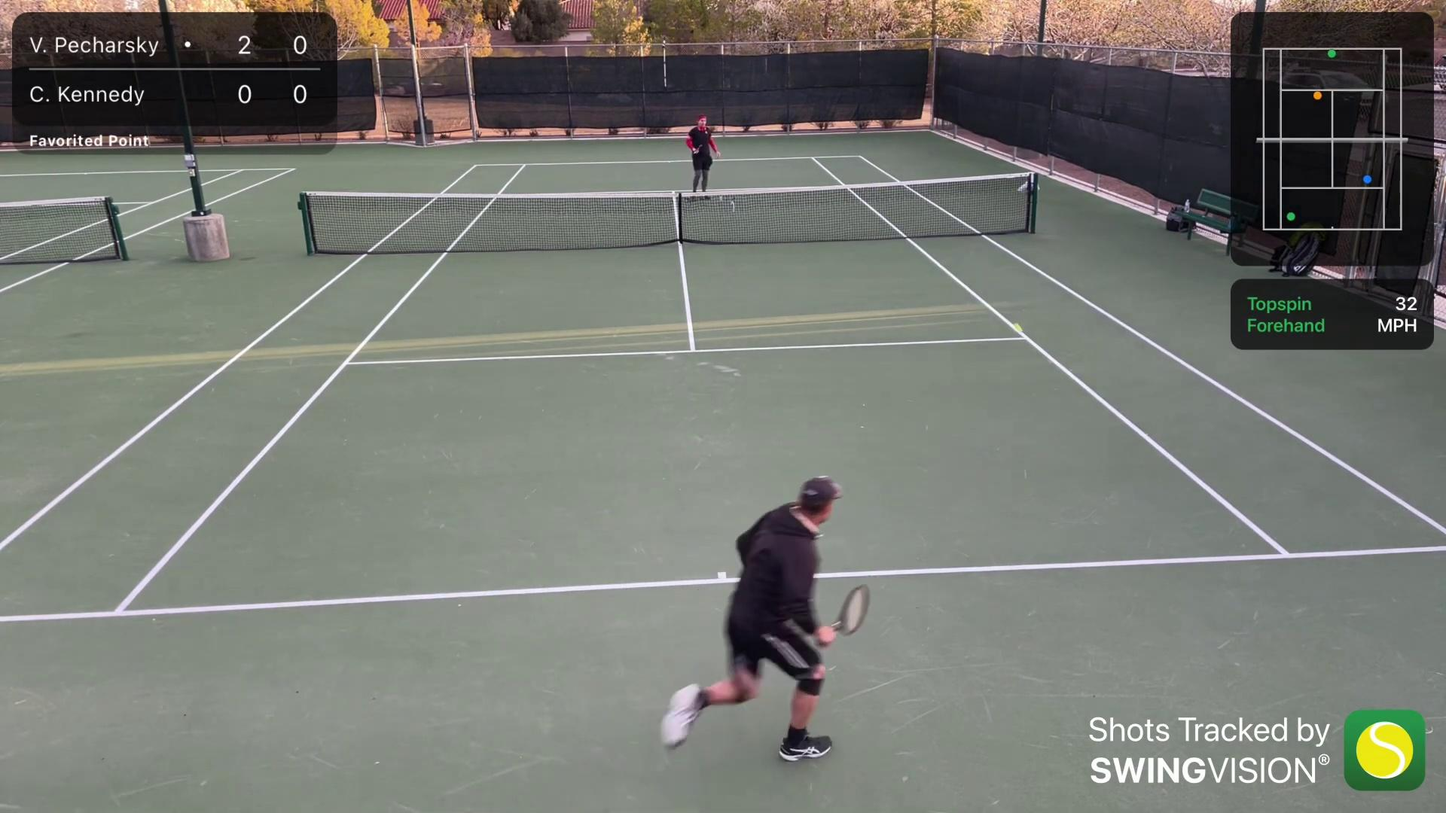ball: (1018, 326, 1023, 332)
